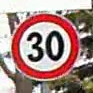limite 30: (10, 13, 79, 79)
